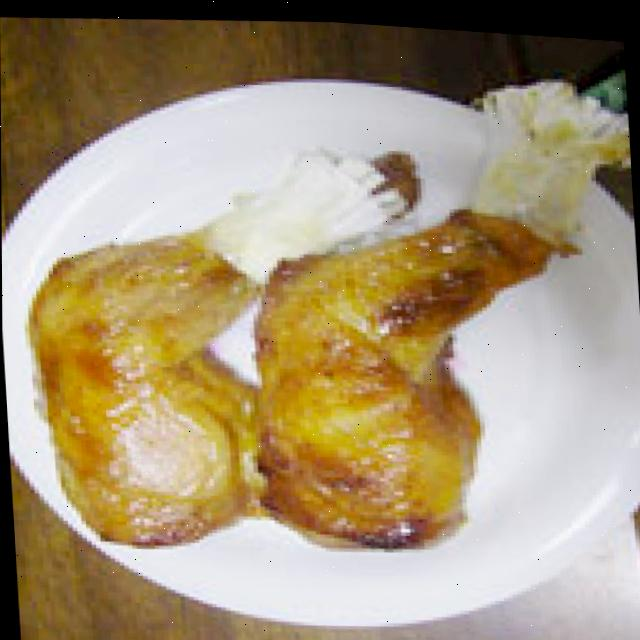鸡肉料理 含炸鸡: (18, 114, 627, 587)
